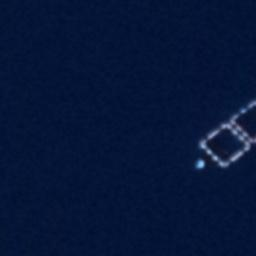square_solid: (196, 120, 252, 171), (228, 95, 256, 145)
